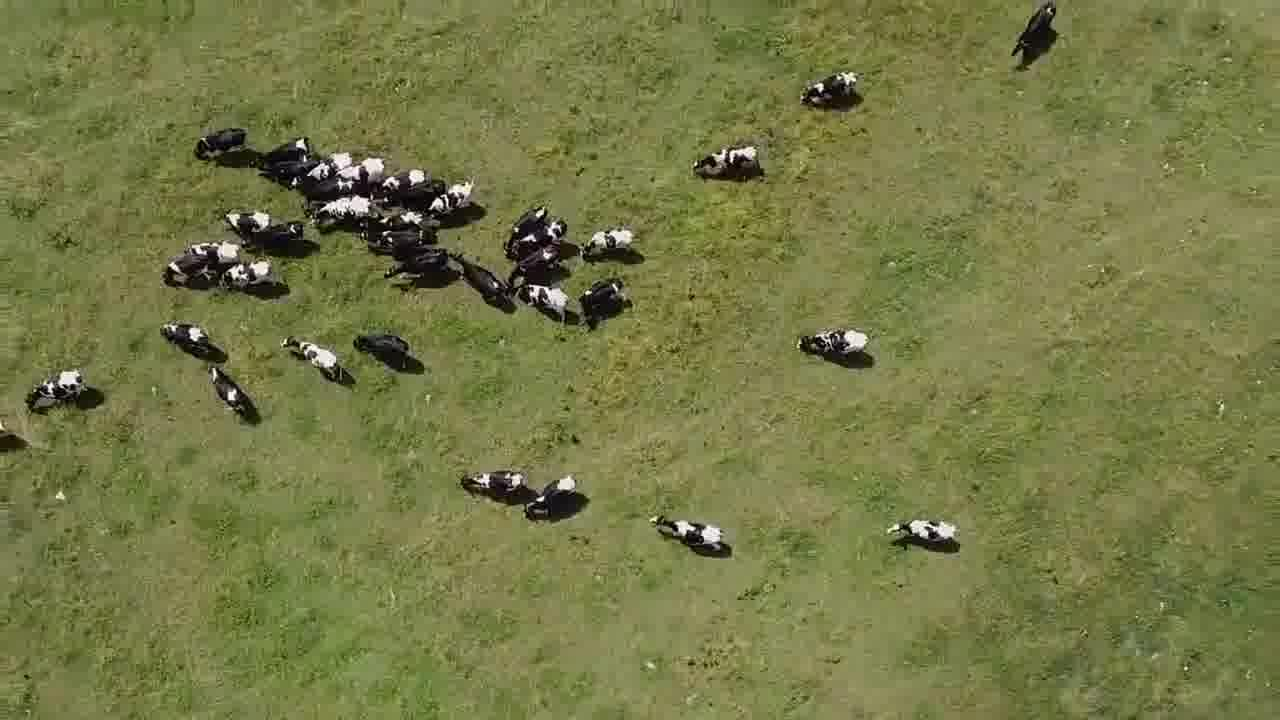cow: (23, 367, 89, 422), (646, 512, 728, 555), (451, 253, 512, 310), (277, 334, 345, 384), (379, 246, 459, 288), (690, 143, 763, 189), (791, 324, 875, 363), (1007, 1, 1060, 61), (796, 68, 864, 113), (509, 213, 572, 260), (523, 474, 581, 524), (350, 328, 412, 372), (324, 152, 390, 193), (457, 466, 528, 503), (208, 362, 254, 419), (215, 252, 277, 294), (518, 279, 573, 325), (159, 248, 217, 290), (579, 274, 625, 326), (304, 199, 381, 230), (886, 515, 962, 546), (157, 318, 217, 357), (298, 149, 357, 188), (577, 225, 637, 263), (501, 202, 553, 245), (357, 226, 440, 252), (429, 179, 480, 220), (192, 123, 250, 159), (509, 241, 561, 280), (261, 132, 314, 167), (221, 205, 278, 237), (244, 219, 306, 248), (381, 163, 430, 199), (186, 237, 245, 261)
